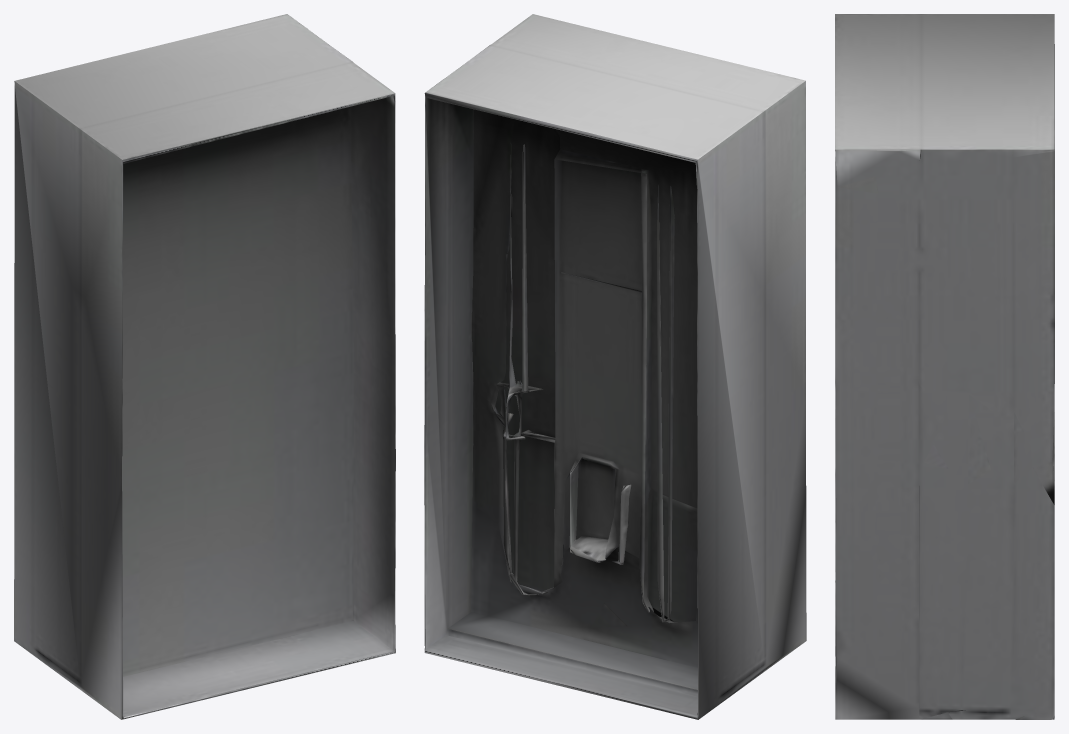
Rendered from breaker_box.glb.
The picture shows the model from 3 angles, left to right: view 1: azimuth 30°, elevation 25°; view 2: azimuth 150°, elevation 25°; view 3: azimuth 270°, elevation 25°; orthographic projection.
Visible parts, largest first — view 1: breaker_box; view 2: breaker_box; view 3: breaker_box.
Part boxes in pixels (x1,y1,x2,y2): breaker_box: (14, 14, 395, 719); breaker_box: (424, 14, 806, 719); breaker_box: (835, 14, 1054, 719).
Size of the model in its own units: 0.5129 by 0.9995 by 0.3491.
1 material, 1 textured.
